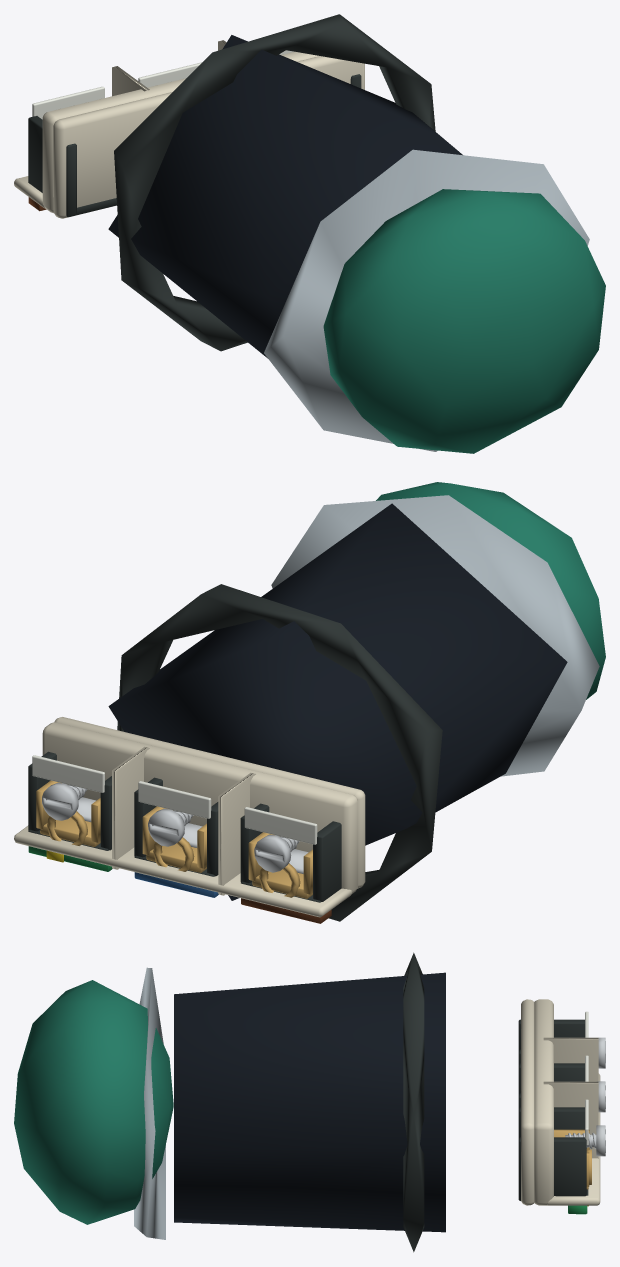
Rendered from indicator_indicator.low.glb.
3 renders of one model, top to bottom at view 1: azimuth 30°, elevation 25°; view 2: azimuth 150°, elevation 25°; view 3: azimuth 270°, elevation 25°, orthographic. The views are drawn at different scales.
Parts seen in each view (by area): view 1: part:body, part:display, Panel indicator retaining locknut, part:terminals · Original 5a609f27, detail:terminal-clamp:L · Detail moulded engineering polymer, Moulded terminal legend pad, Moulded terminal legend pad.001; view 2: part:body, part:terminals · Original 5a609f27, Panel indicator retaining locknut, part:display, detail:terminal-clamp:L · Detail moulded engineering polymer, detail:terminal-clamp:L · Detail machined brass, detail:terminal-clamp:N · Detail machined brass, detail:terminal-clamp:PE · Detail machined brass, detail:terminal-clamp:N · Detail moulded engineering polymer, detail:terminal-clamp:PE · Detail moulded engineering polyme, Moulded terminal legend pad.001, Moulded terminal legend pad (+6 smaller); view 3: part:body, part:display, part:terminals · Original 5a609f27, Panel indicator retaining locknut, detail:terminal-clamp:PE · Detail moulded engineering polyme, detail:terminal-clamp:L · Detail moulded engineering polymer, detail:terminal-clamp:N · Detail moulded engineering polymer, detail:terminal-clamp:PE · Detail zinc plated fixing, detail:terminal-clamp:PE · Detail machined brass.
Boxes of the visible parts, left/top/right/bottom form: part:body: left=108, top=35, right=589, bottom=451; part:display: left=323, top=189, right=605, bottom=453; Panel indicator retaining locknut: left=114, top=14, right=435, bottom=351; part:terminals · Original 5a609f27: left=14, top=40, right=364, bottom=218; detail:terminal-clamp:L · Detail moulded engineering polymer: left=28, top=116, right=116, bottom=217; Moulded terminal legend pad: left=32, top=86, right=104, bottom=119; Moulded terminal legend pad.001: left=138, top=62, right=201, bottom=87; part:body: left=108, top=495, right=599, bottom=900; part:terminals · Original 5a609f27: left=14, top=717, right=365, bottom=917; Panel indicator retaining locknut: left=117, top=584, right=442, bottom=921; part:display: left=376, top=482, right=605, bottom=699; detail:terminal-clamp:L · Detail moulded engineering polymer: left=240, top=803, right=341, bottom=902; detail:terminal-clamp:L · Detail machined brass: left=248, top=832, right=312, bottom=898; detail:terminal-clamp:N · Detail machined brass: left=142, top=806, right=206, bottom=872; detail:terminal-clamp:PE · Detail machined brass: left=36, top=780, right=100, bottom=846; detail:terminal-clamp:N · Detail moulded engineering polymer: left=134, top=777, right=218, bottom=876; detail:terminal-clamp:PE · Detail moulded engineering polyme: left=28, top=751, right=111, bottom=850; Moulded terminal legend pad.001: left=138, top=781, right=211, bottom=818; Moulded terminal legend pad: left=244, top=807, right=317, bottom=844; part:body: left=134, top=967, right=445, bottom=1239; part:display: left=14, top=980, right=173, bottom=1224; part:terminals · Original 5a609f27: left=521, top=999, right=600, bottom=1205; Panel indicator retaining locknut: left=403, top=952, right=424, bottom=1252; detail:terminal-clamp:PE · Detail moulded engineering polyme: left=518, top=1107, right=588, bottom=1200; detail:terminal-clamp:L · Detail moulded engineering polymer: left=518, top=1019, right=584, bottom=1064; detail:terminal-clamp:N · Detail moulded engineering polymer: left=518, top=1063, right=584, bottom=1108; detail:terminal-clamp:PE · Detail zinc plated fixing: left=565, top=1125, right=605, bottom=1156; detail:terminal-clamp:PE · Detail machined brass: left=554, top=1129, right=591, bottom=1189.
Size of the model in its own units: 0.3685 by 0.3304 by 0.6966.
